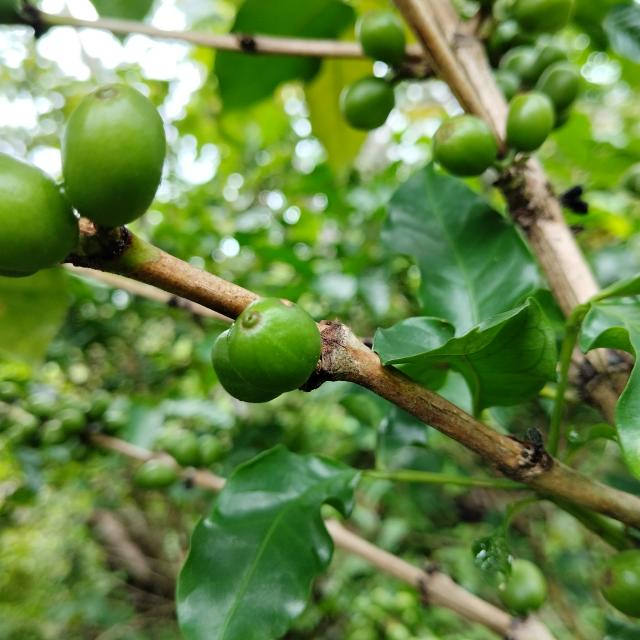green: (60, 83, 165, 227), (0, 152, 78, 277), (229, 298, 322, 393), (211, 329, 281, 403), (432, 114, 499, 176), (340, 75, 395, 130), (507, 91, 556, 151)
